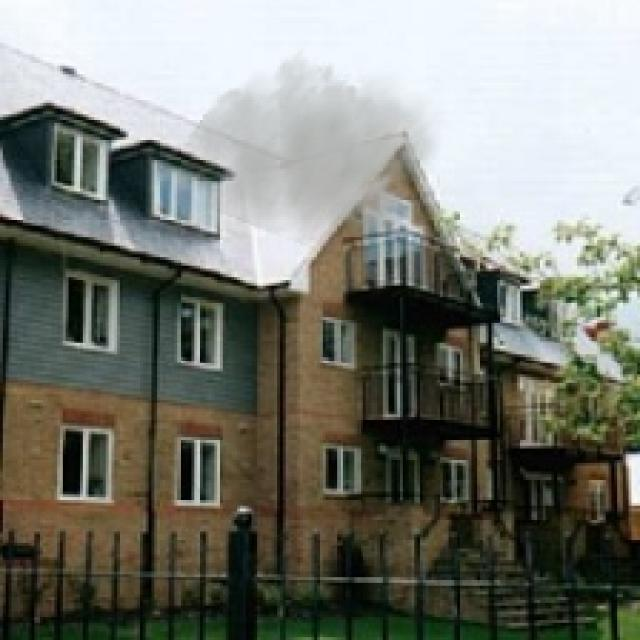smoke: (177, 48, 449, 268)
